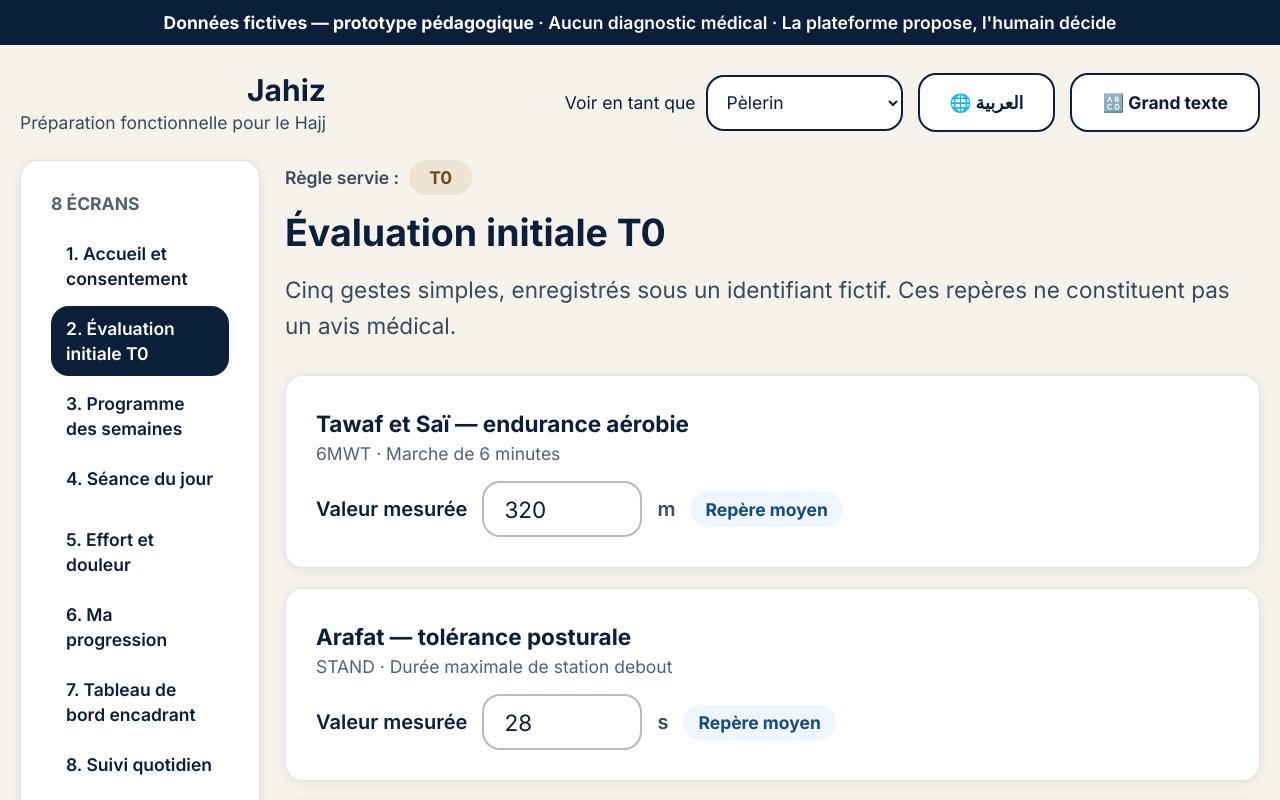
Scenario: Écrans 2 et 7 — vérification de l’étape 4 › écran 2 — les 5 tests sont enregistrés sous un identifiant fictif
This screenshot has width=1280, height=800.
Replace the text in the number field labelled "Valeur mesurée" below "Tawaf et Saï — endurance aérobie" with "330". click: {"x": 562, "y": 509}
box: [482,481,642,537]
(page scrolled)
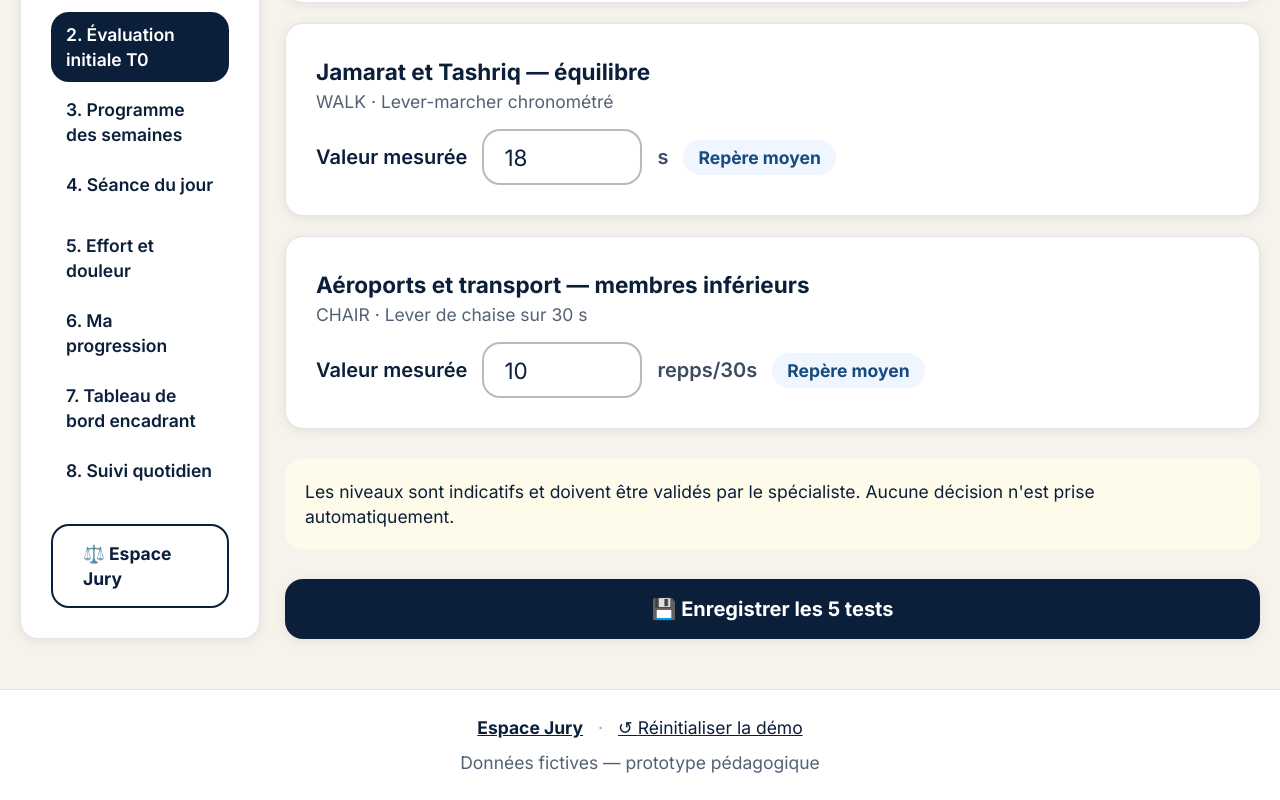
Click the button "💾 Enregistrer les 5 tests". click: {"x": 772, "y": 609}
box: [285,579,1260,639]
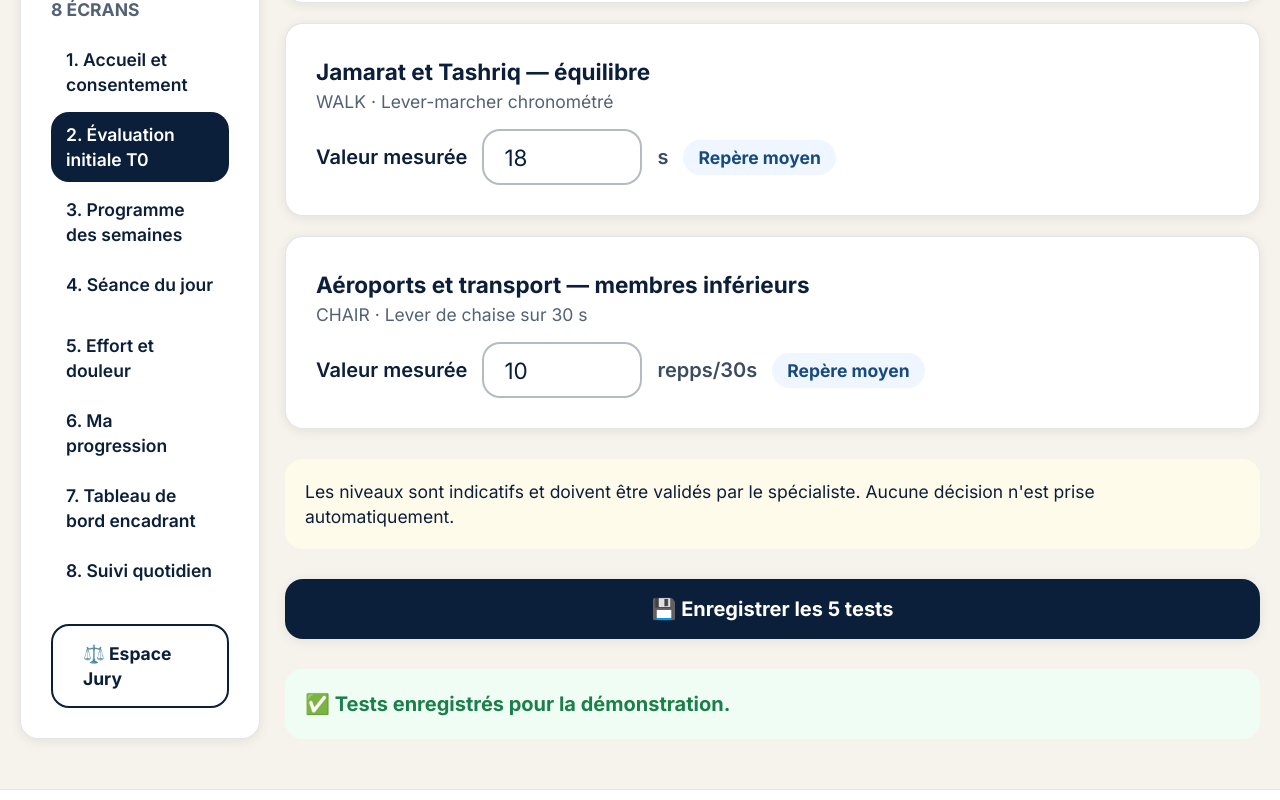
Expected: the message shows "Tests enregistrés", [335,692,730,716]
